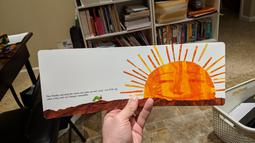text block: (45, 87, 119, 101)
